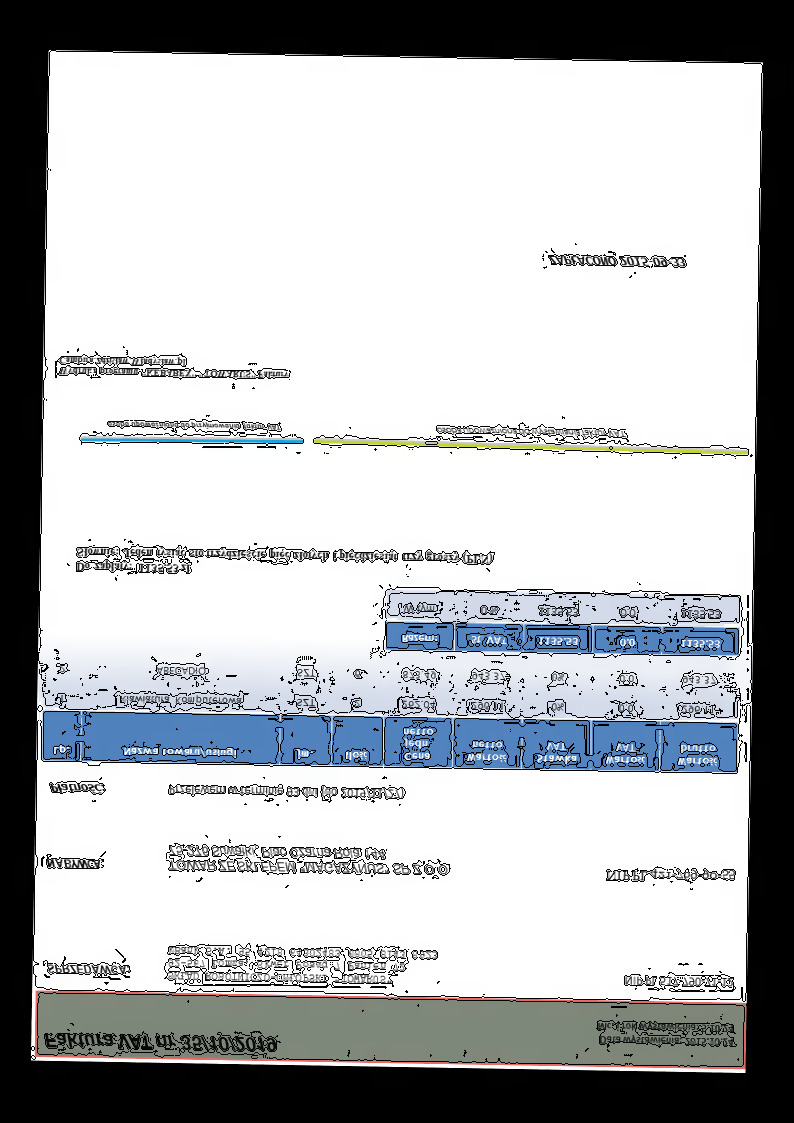Table: (41, 648, 740, 774), (384, 589, 742, 658)
TextBox: (73, 543, 496, 583), (165, 944, 439, 988), (166, 842, 456, 878), (55, 353, 293, 382), (42, 1030, 279, 1055), (167, 783, 404, 802), (595, 1020, 736, 1049), (434, 425, 630, 441), (605, 865, 737, 886), (546, 253, 687, 271), (105, 419, 282, 433), (622, 973, 735, 991), (45, 961, 132, 978), (44, 856, 105, 872), (48, 781, 107, 796)
